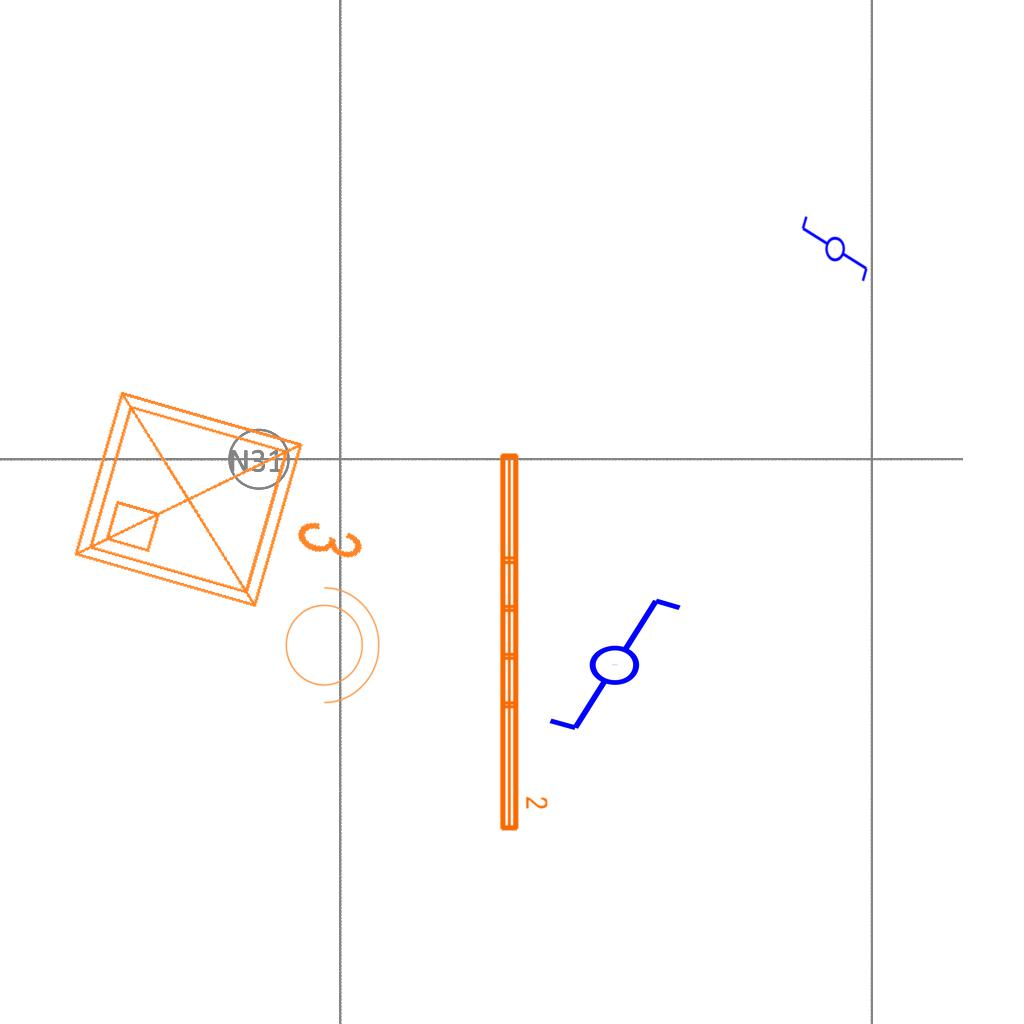Ambulanz_Pendelleuchte_LED: (494, 448, 550, 835)
Einbaudownlights_LED_Konferenzraeume: (56, 365, 402, 649)
Scheinwerfer_fuer_Alarmbeleuchtung: (273, 576, 385, 708)
Wechselschalter: (528, 591, 685, 735), (798, 214, 870, 292)
